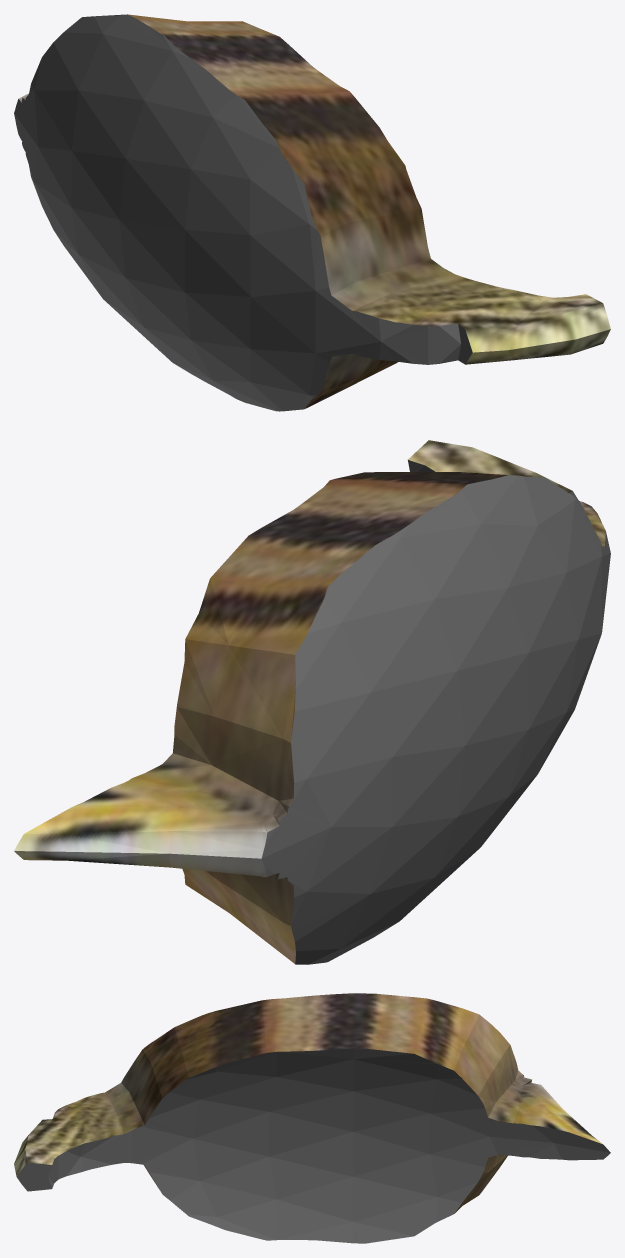
The picture shows the model from 3 angles, top to bottom: view 1: azimuth 30°, elevation 25°; view 2: azimuth 150°, elevation 25°; view 3: azimuth 270°, elevation 25°; orthographic projection. The views are drawn at different scales.
Parts seen in each view (by area): view 1: link_8_visual; view 2: link_8_visual; view 3: link_8_visual.
Part boxes in pixels (left/top/right/bottom): link_8_visual: left=14, top=14, right=610, bottom=411; link_8_visual: left=14, top=440, right=610, bottom=964; link_8_visual: left=14, top=993, right=610, bottom=1243.
Size of the model in its own units: 0.00141 by 0.00167 by 0.00395.
Materials: 1 (1 with a texture image).
